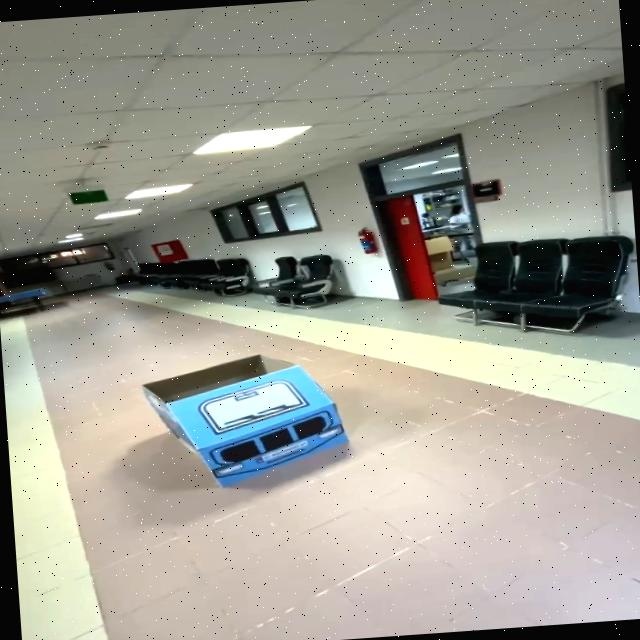blue_car: (118, 327, 376, 505)
